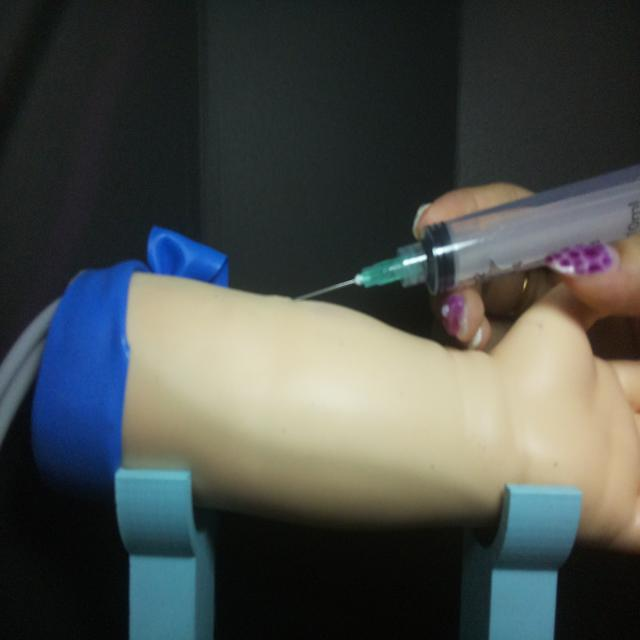17deg: (291, 159, 638, 306)
